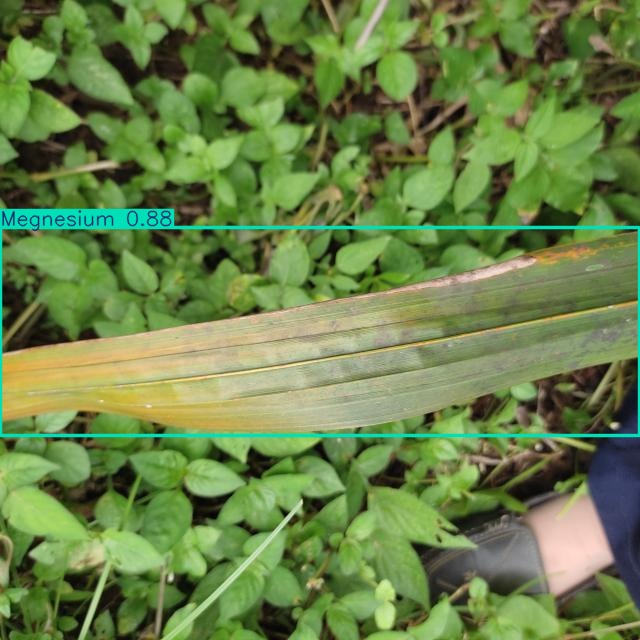Megnesium: (0, 227, 640, 436)
